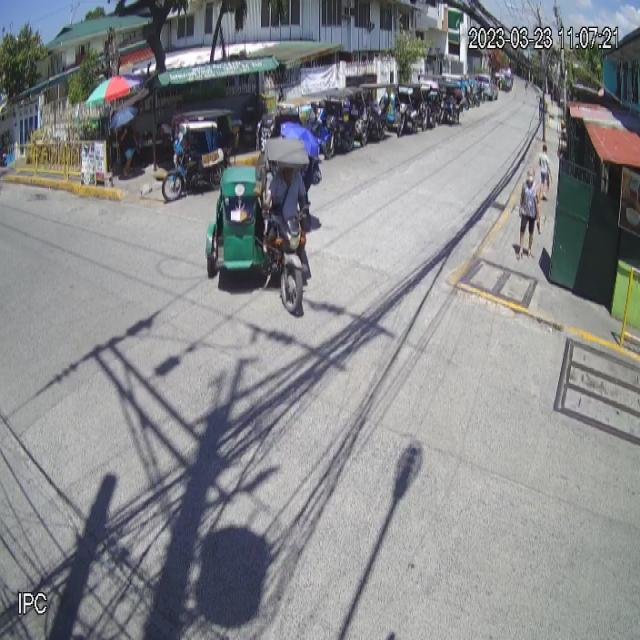Tricycle: (205, 136, 312, 312)
